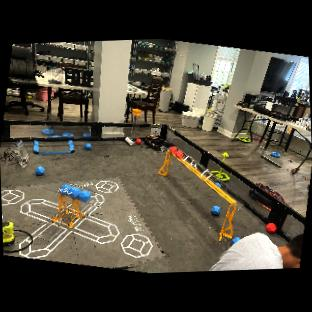Robot: (143, 132, 173, 151)
V5_BLUE: (208, 203, 223, 217), (33, 164, 45, 178), (230, 234, 242, 247), (83, 141, 93, 151)
V5_RED: (264, 221, 278, 235), (134, 138, 141, 146)
blueingoal: (75, 188, 95, 204), (67, 184, 82, 200), (58, 182, 72, 196)
redingoal: (174, 149, 187, 160), (168, 143, 179, 154)
